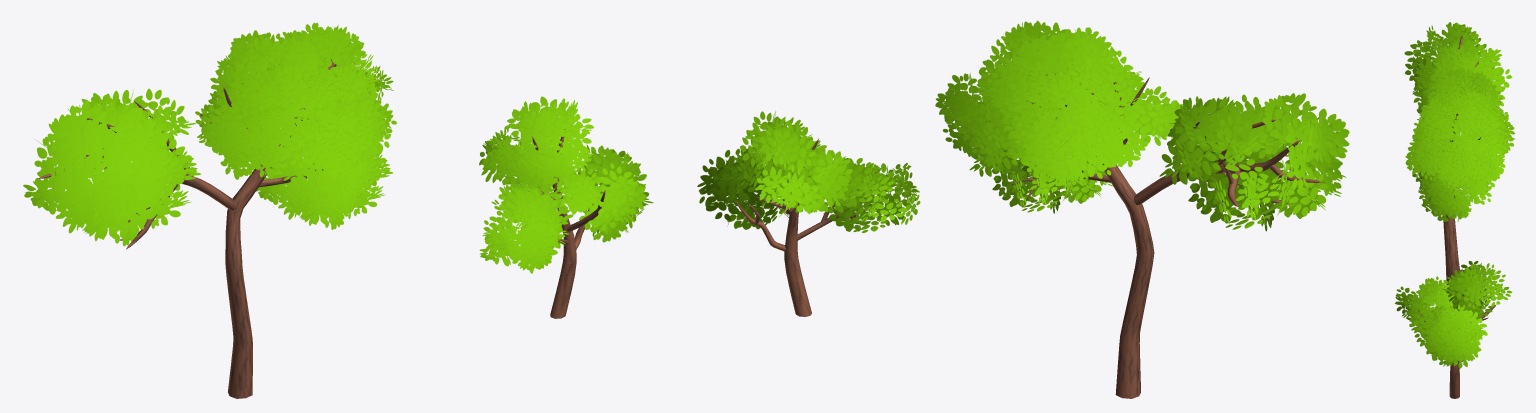
File: trees.glb
3 renders of one model, left to right at view 1: azimuth 30°, elevation 25°; view 2: azimuth 150°, elevation 25°; view 3: azimuth 270°, elevation 25°, orthographic. The views are drawn at different scales.
Parts seen in each view (by area): view 1: NormalTree_4, NormalTree_5; view 2: NormalTree_4, NormalTree_5; view 3: NormalTree_4, NormalTree_5.
Boxes of the visible parts, x1,y1,x2,y2 form: NormalTree_4: (23, 22, 396, 398); NormalTree_5: (479, 96, 653, 318); NormalTree_4: (935, 20, 1349, 398); NormalTree_5: (697, 111, 920, 316); NormalTree_4: (1404, 22, 1514, 285); NormalTree_5: (1394, 261, 1512, 398).
Bounding box in the file's own units: 9.4 × 5.1 × 2.59.
Materials: 2 (2 with a texture image).
